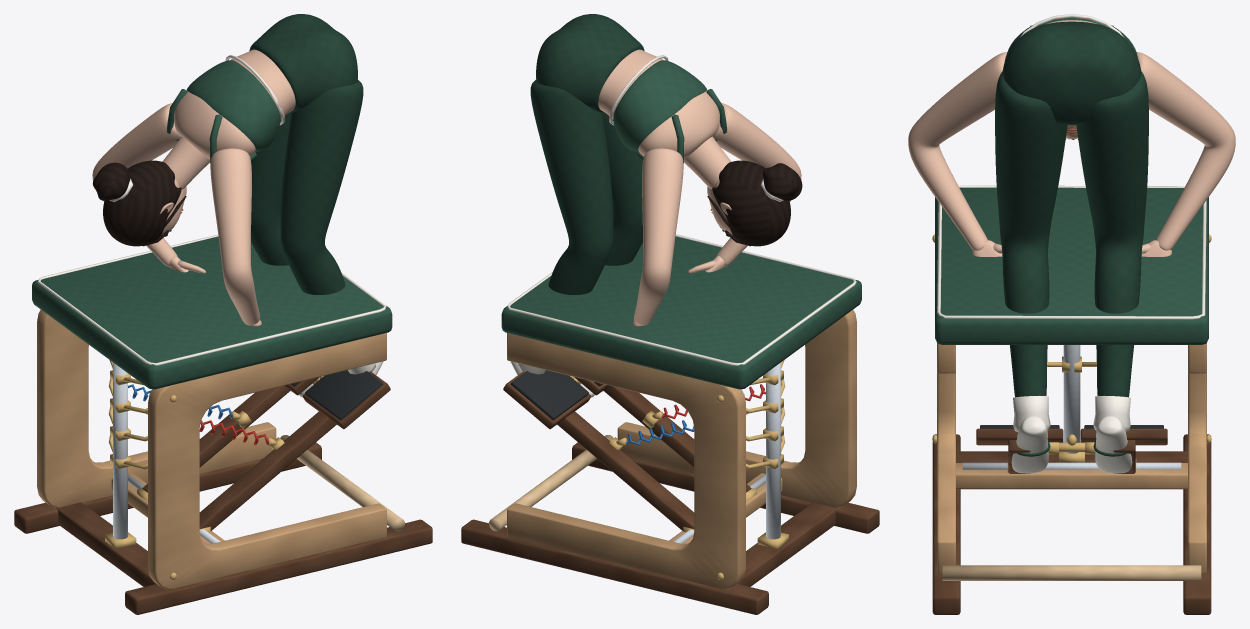
File: chair-studio-rig.glb
3 renders of one model, left to right at view 1: azimuth 30°, elevation 25°; view 2: azimuth 150°, elevation 25°; view 3: azimuth 270°, elevation 25°, orthographic. The views are drawn at different scales.
Parts seen in each view (by area): view 1: SM_Studio_Dielectric, SM_Studio_Metallic; view 2: SM_Studio_Dielectric, SM_Studio_Metallic; view 3: SM_Studio_Dielectric, SM_Studio_Metallic.
Boxes of the visible parts, x1=… form: SM_Studio_Dielectric: x1=14, y1=14, x2=432, y2=614; SM_Studio_Metallic: x1=105, y1=360, x2=323, y2=579; SM_Studio_Dielectric: x1=461, y1=14, x2=879, y2=614; SM_Studio_Metallic: x1=570, y1=360, x2=788, y2=579; SM_Studio_Dielectric: x1=908, y1=14, x2=1235, y2=614; SM_Studio_Metallic: x1=932, y1=234, x2=1211, y2=472.
Bounding box in the file's own units: 0.78 × 1.23 × 0.6583.
2 materials, 2 textured.
